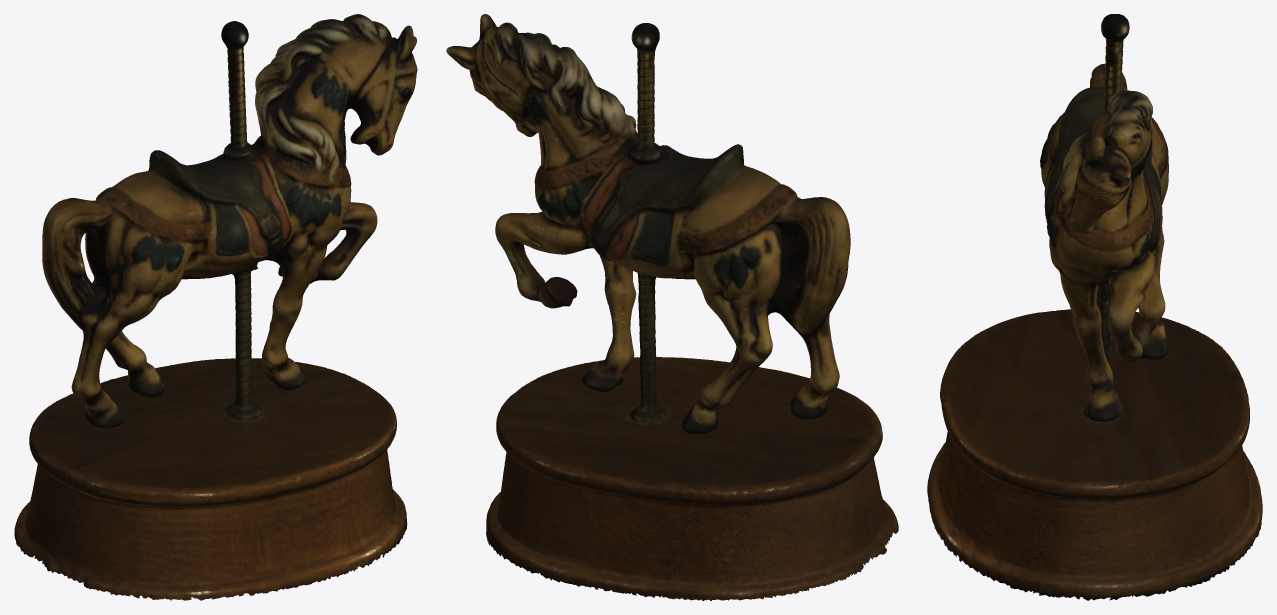
File: sf-horse-sculpture-color-scan-06ba7b.glb
The picture shows the model from 3 angles, left to right: view 1: azimuth 30°, elevation 25°; view 2: azimuth 150°, elevation 25°; view 3: azimuth 270°, elevation 25°; orthographic projection. The views are drawn at different scales.
Visible parts, largest first — view 1: Object_2; view 2: Object_2; view 3: Object_2.
Boxes of the visible parts, bbox=[...] form: Object_2: bbox=[14, 14, 417, 600]; Object_2: bbox=[446, 14, 898, 600]; Object_2: bbox=[927, 14, 1262, 600].
Size of the model in its own units: 167 by 201 by 119.
1 material, 1 textured.
